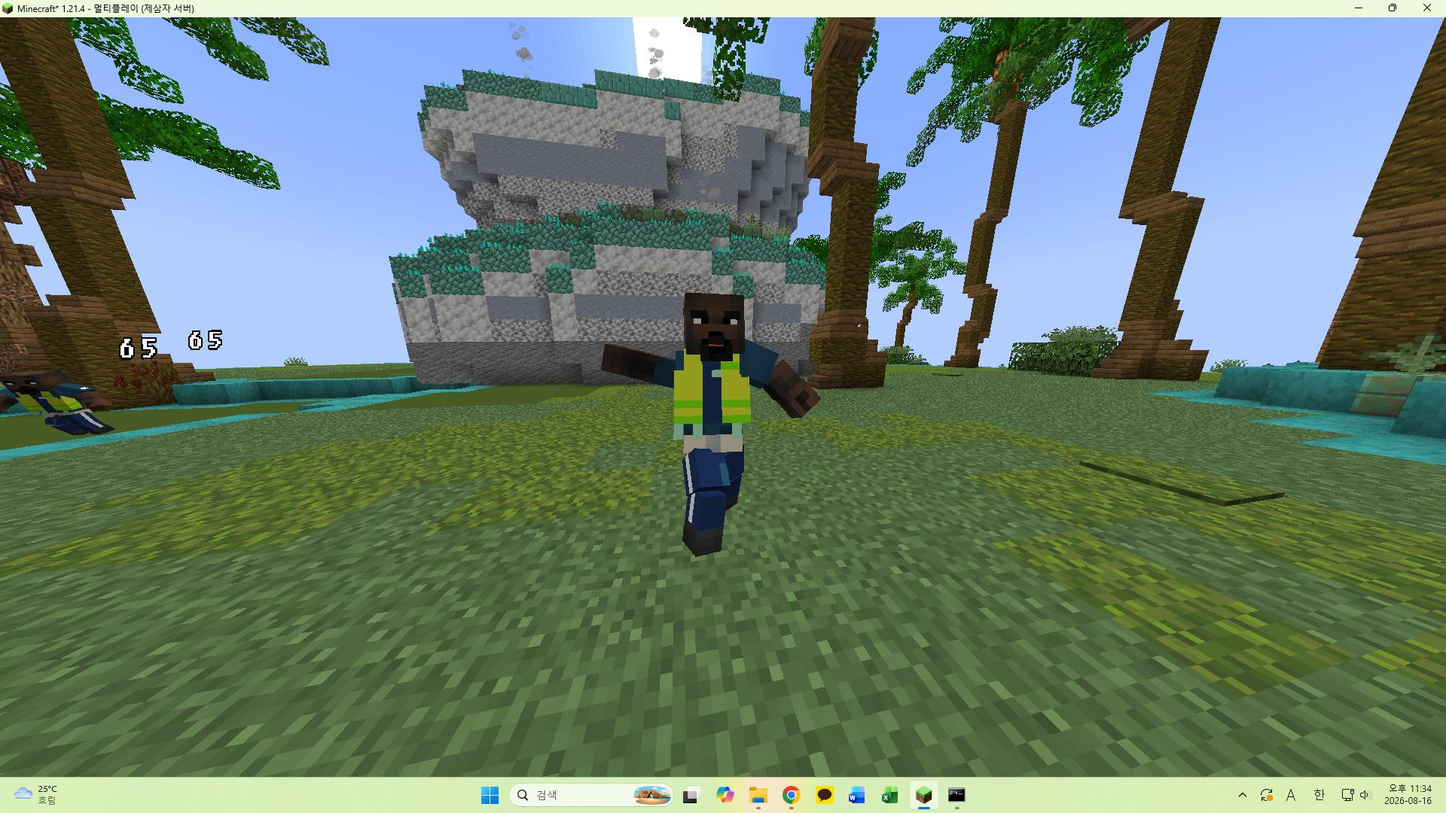Guardian: (601, 294, 819, 556)
